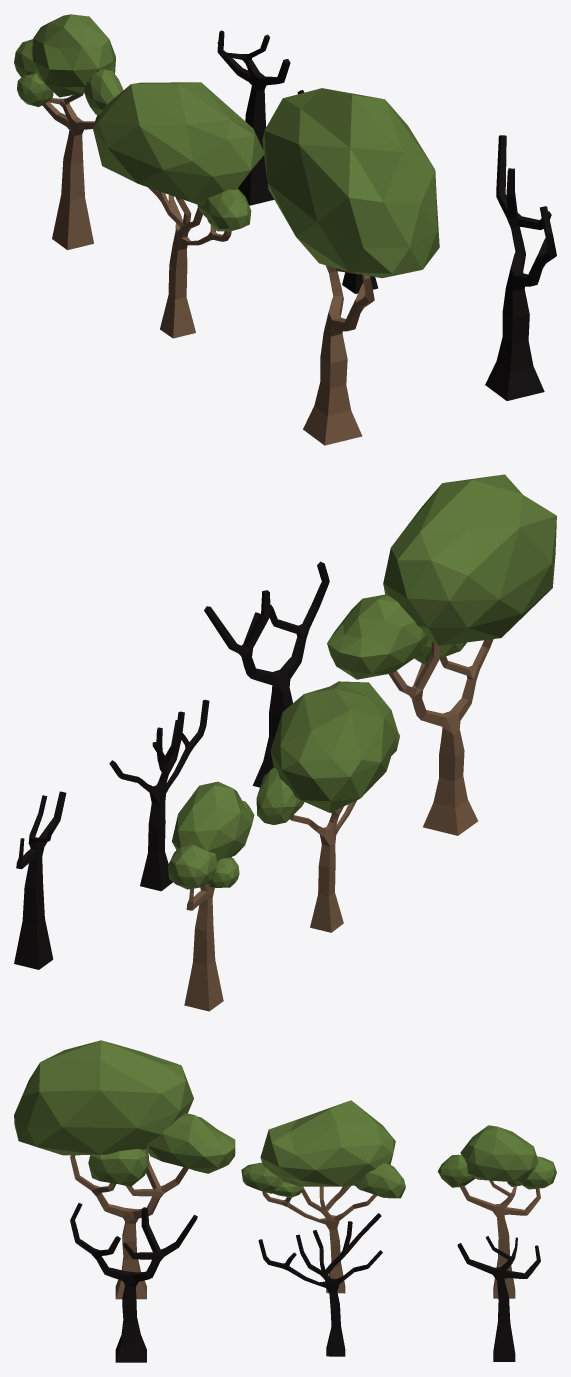
The model's file is modelo_mataatlantica_arvores.fbx.
The picture shows the model from 3 angles, top to bottom: view 1: azimuth 30°, elevation 25°; view 2: azimuth 150°, elevation 25°; view 3: azimuth 270°, elevation 25°; orthographic projection. The views are drawn at different scales.
Visible parts, largest first — view 1: MataAtlantica Folhagem 3, MataAtlantica Folhagem 2, MataAtlantica Folhagem 1, MataAtlantica Arvore Morta 3, MataAtlantica Arvore 3, MataAtlantica Arvore 1, MataAtlantica Arvore 2, MataAtlantica Arvore Morta 1; view 2: MataAtlantica Folhagem 3, MataAtlantica Folhagem 2, MataAtlantica Folhagem 1, MataAtlantica Arvore 3, MataAtlantica Arvore Morta 3, MataAtlantica Arvore Morta 2, MataAtlantica Arvore Morta 1, MataAtlantica Arvore 1, MataAtlantica Arvore 2; view 3: MataAtlantica Folhagem 3, MataAtlantica Folhagem 2, MataAtlantica Folhagem 1, MataAtlantica Arvore Morta 3, MataAtlantica Arvore 3, MataAtlantica Arvore Morta 2, MataAtlantica Arvore Morta 1, MataAtlantica Arvore 2, MataAtlantica Arvore 1.
Part boxes in pixels (x1,y1,x2,y2): MataAtlantica Folhagem 3: [262, 88, 439, 278]; MataAtlantica Folhagem 2: [92, 82, 263, 231]; MataAtlantica Folhagem 1: [14, 14, 123, 114]; MataAtlantica Arvore Morta 3: [485, 135, 556, 400]; MataAtlantica Arvore 3: [303, 265, 374, 445]; MataAtlantica Arvore 1: [42, 93, 100, 250]; MataAtlantica Arvore 2: [148, 187, 231, 338]; MataAtlantica Arvore Morta 1: [217, 30, 290, 205]; MataAtlantica Folhagem 3: [327, 474, 556, 679]; MataAtlantica Folhagem 2: [256, 681, 399, 824]; MataAtlantica Folhagem 1: [168, 781, 254, 889]; MataAtlantica Arvore 3: [388, 639, 493, 835]; MataAtlantica Arvore Morta 3: [204, 561, 329, 787]; MataAtlantica Arvore Morta 2: [109, 699, 209, 891]; MataAtlantica Arvore Morta 1: [14, 791, 66, 969]; MataAtlantica Arvore 1: [184, 857, 231, 1011]; MataAtlantica Arvore 2: [290, 800, 356, 932]; MataAtlantica Folhagem 3: [14, 1040, 235, 1186]; MataAtlantica Folhagem 2: [241, 1100, 405, 1198]; MataAtlantica Folhagem 1: [437, 1125, 556, 1189]; MataAtlantica Arvore Morta 3: [70, 1203, 197, 1362]; MataAtlantica Arvore 3: [70, 1148, 188, 1299]; MataAtlantica Arvore Morta 2: [258, 1213, 382, 1356]; MataAtlantica Arvore Morta 1: [457, 1236, 540, 1361]; MataAtlantica Arvore 2: [262, 1186, 376, 1293]; MataAtlantica Arvore 1: [460, 1180, 540, 1298].
Size of the model in its own units: 358 by 414 by 807.
